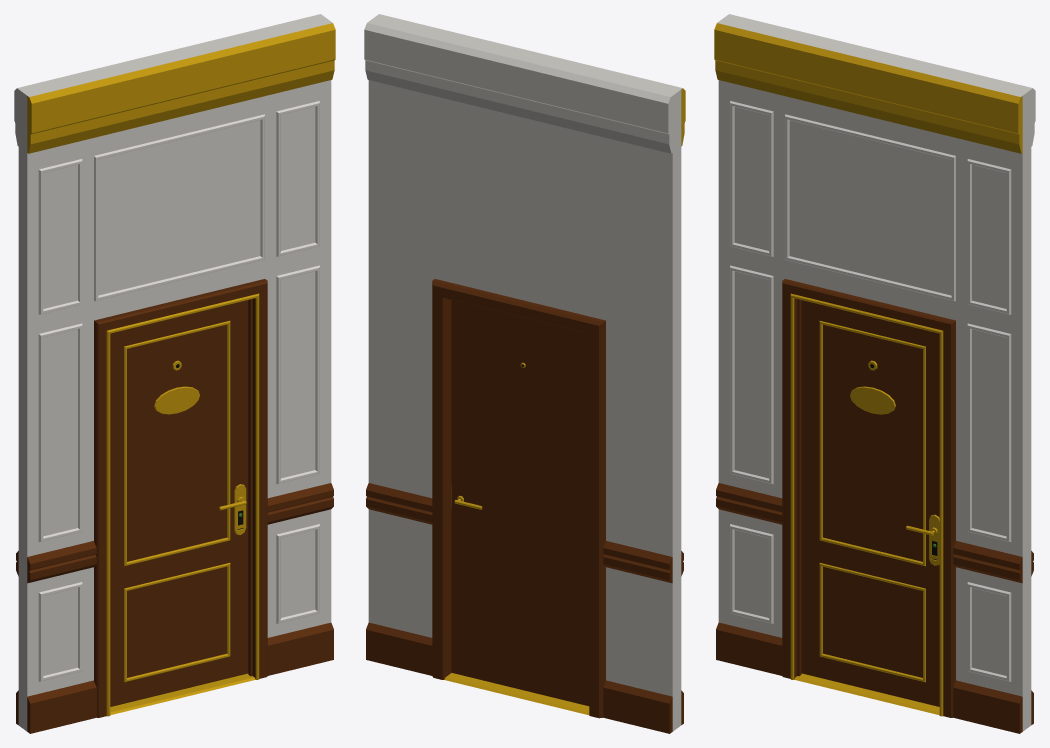
File: guest-room-door-set-849df1.glb
The picture shows the model from 3 angles, left to right: view 1: azimuth 30°, elevation 25°; view 2: azimuth 150°, elevation 25°; view 3: azimuth 330°, elevation 25°; orthographic projection.
Parts seen in each view (by area): view 1: corridor-wall, door-leaf; view 2: corridor-wall, door-leaf; view 3: corridor-wall, door-leaf.
Part boxes in pixels (<box>): corridor-wall: <box>14,14,335,733</box>; door-leaf: <box>110,300,248,706</box>; corridor-wall: <box>364,14,685,733</box>; door-leaf: <box>451,300,589,706</box>; corridor-wall: <box>714,14,1035,733</box>; door-leaf: <box>801,300,939,706</box>.
Size of the model in its own units: 2 by 4 by 0.2.
